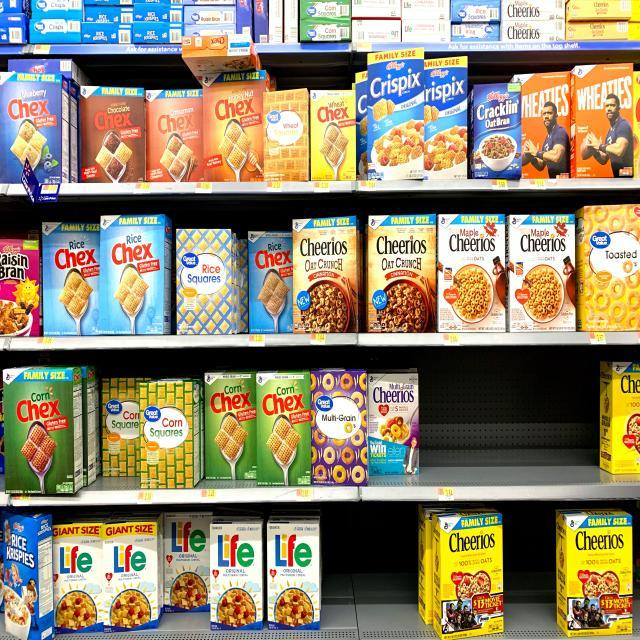Imprecise: (0, 53, 79, 183), (192, 370, 256, 488), (158, 512, 214, 638), (231, 228, 292, 340), (365, 368, 421, 490), (88, 374, 144, 490), (0, 514, 51, 640), (179, 32, 266, 76)
